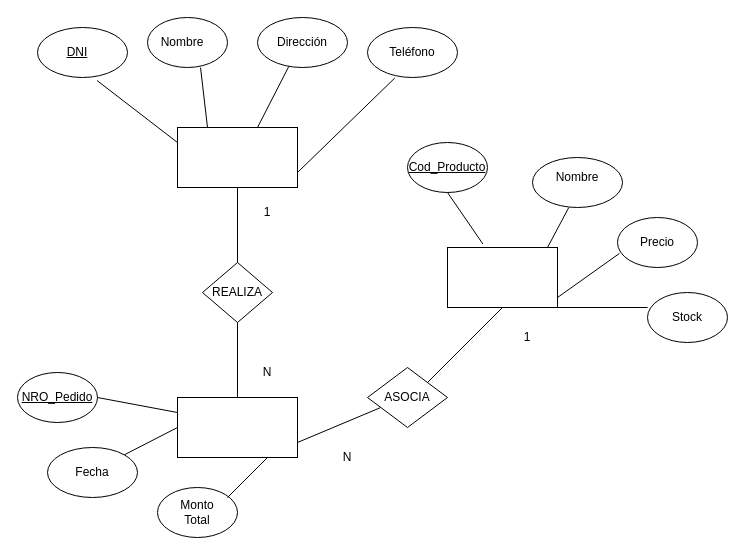
The diagram is 745 pixels wide and 555 high, and some of its shapes have lost their labels. The shapes that lost their labels are listed below. From the top down, each one's centre as x and y in pixels, then its label:
At point (237, 157): "CLIENTES".
At point (502, 277): "PRODUCTO".
At point (237, 427): "PEDIDOS".
